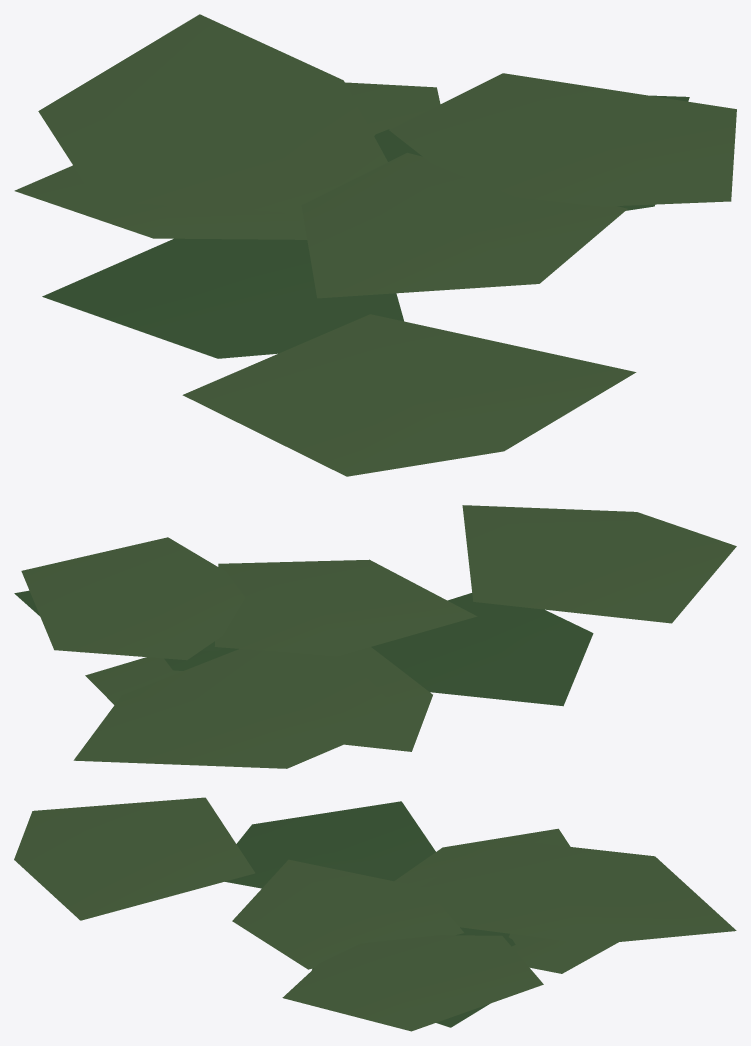
The model's file is moss_b.glb.
The picture shows the model from 3 angles, top to bottom: view 1: azimuth 30°, elevation 25°; view 2: azimuth 150°, elevation 25°; view 3: azimuth 270°, elevation 25°; orthographic projection. The views are drawn at different scales.
Parts seen in each view (by area): view 1: moss_b; view 2: moss_b; view 3: moss_b.
Part boxes in pixels (box(x1,y1,x2,y2)): moss_b: box(14, 14, 736, 476); moss_b: box(14, 505, 736, 768); moss_b: box(14, 797, 736, 1031).
Size of the model in its own units: 1.41 by 0.031 by 1.82.
1 material, 1 textured.
